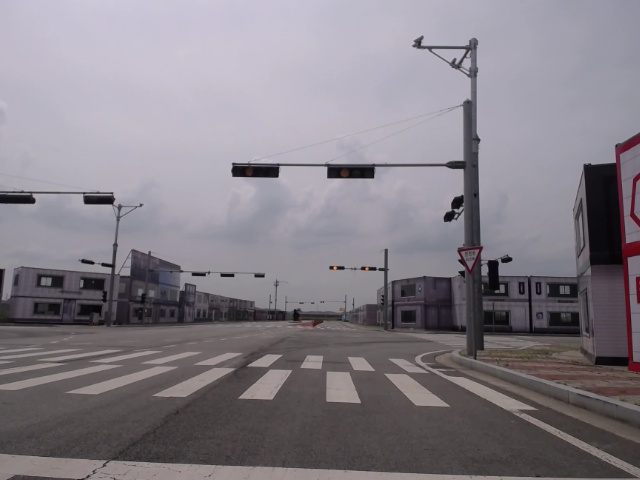orange_4: (230, 160, 281, 179), (327, 164, 378, 179), (359, 265, 378, 273), (328, 265, 347, 272)
